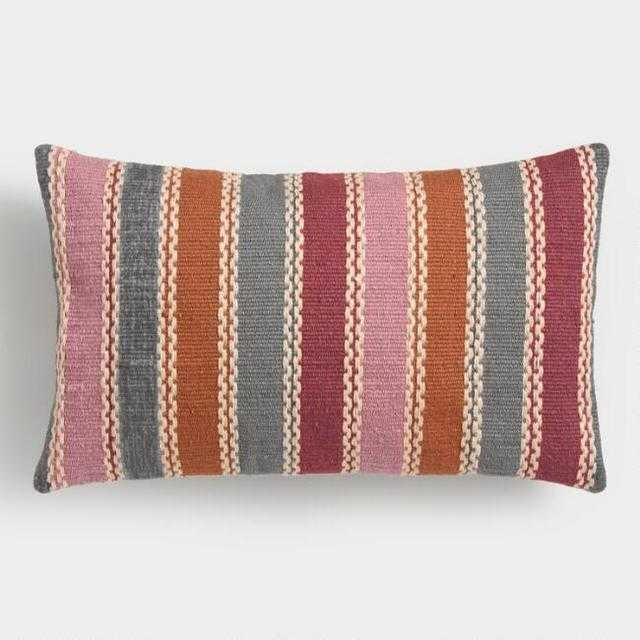pillow: (31, 139, 610, 495)
